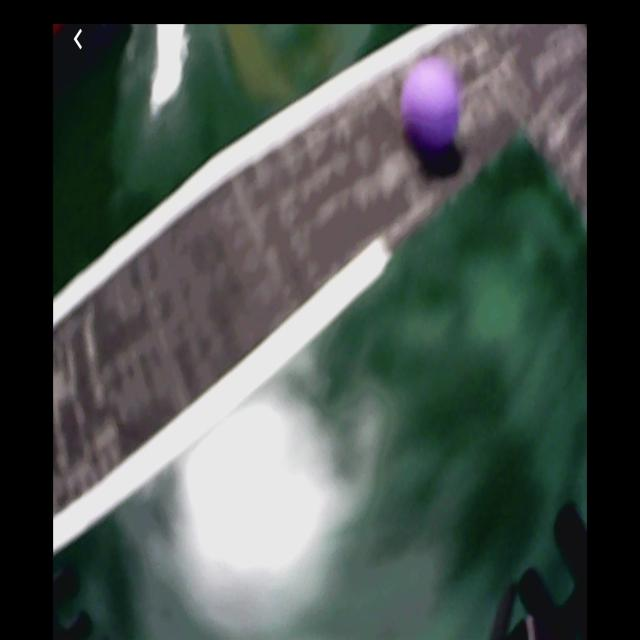ball: (397, 60, 461, 153)
